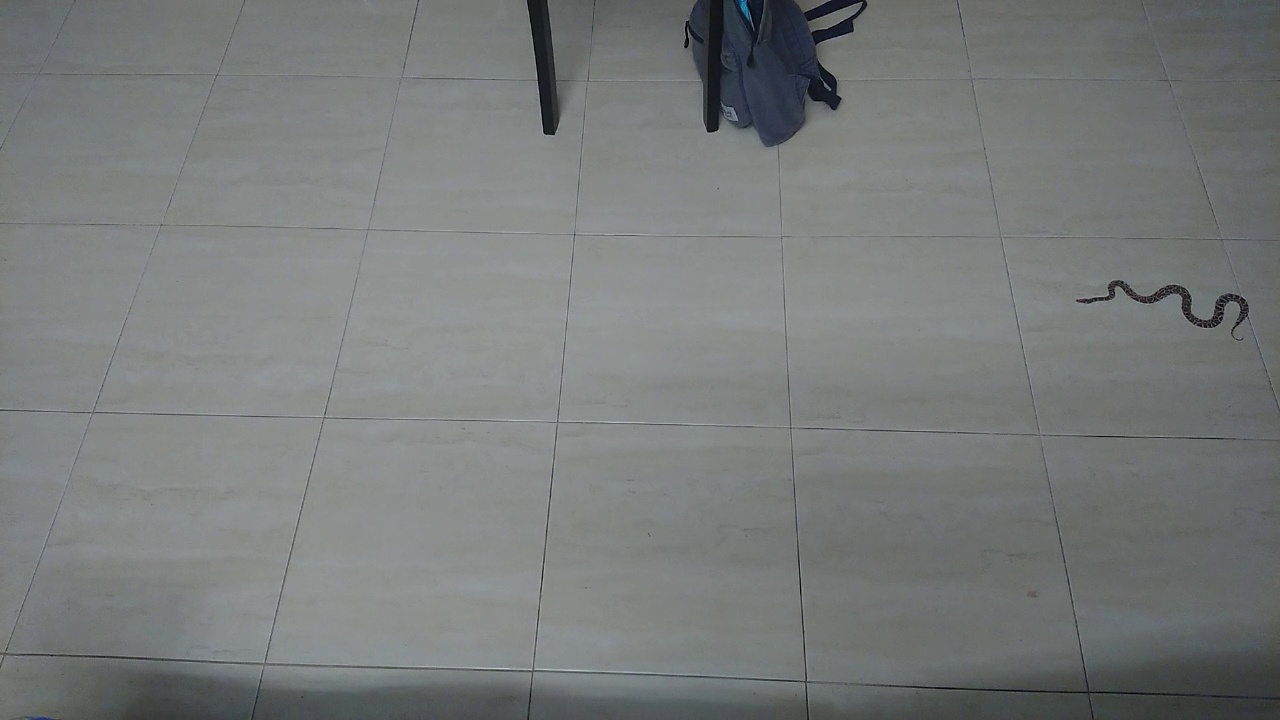snake: (1064, 265, 1265, 357)
